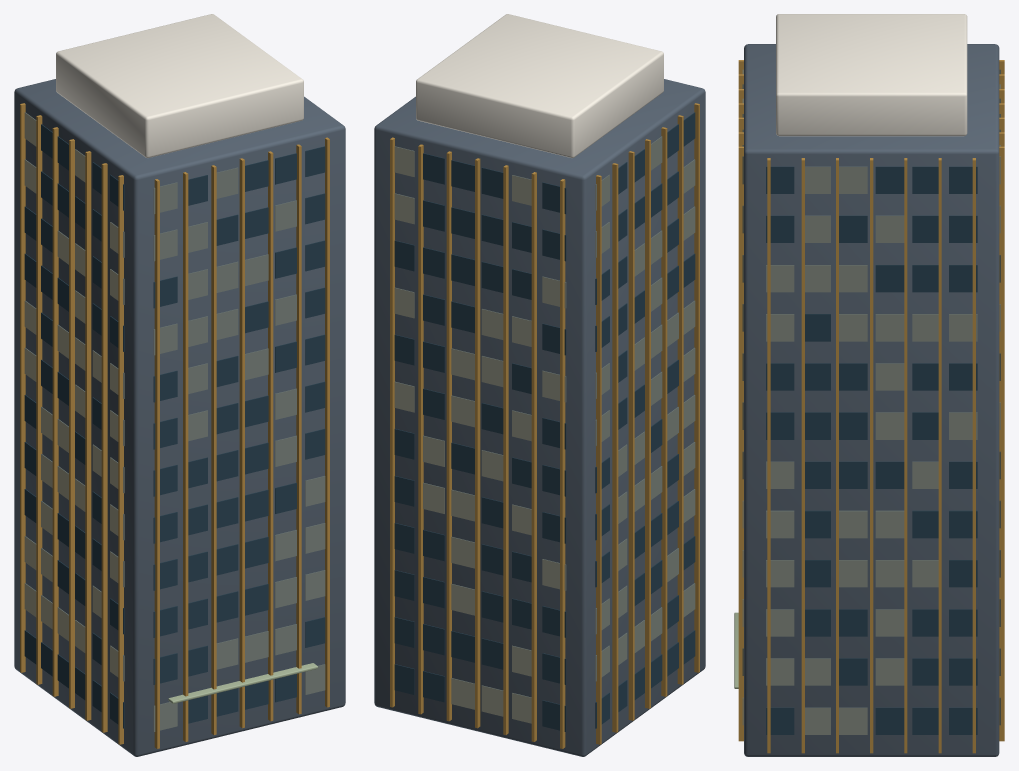
Rendered from buildings.glb.
The picture shows the model from 3 angles, left to right: view 1: azimuth 30°, elevation 25°; view 2: azimuth 150°, elevation 25°; view 3: azimuth 270°, elevation 25°; orthographic projection. The views are drawn at different scales.
Visible parts, largest first — view 1: building_1, building_2; view 2: building_1; view 3: building_1.
Boxes of the visible parts, x1=… form: building_1: x1=14, y1=14, x2=345, y2=756; building_2: x1=168, y1=663, x2=317, y2=703; building_1: x1=374, y1=14, x2=705, y2=756; building_1: x1=738, y1=14, x2=1004, y2=756.
Size of the model in its own units: 16.65 by 45 by 16.93.
